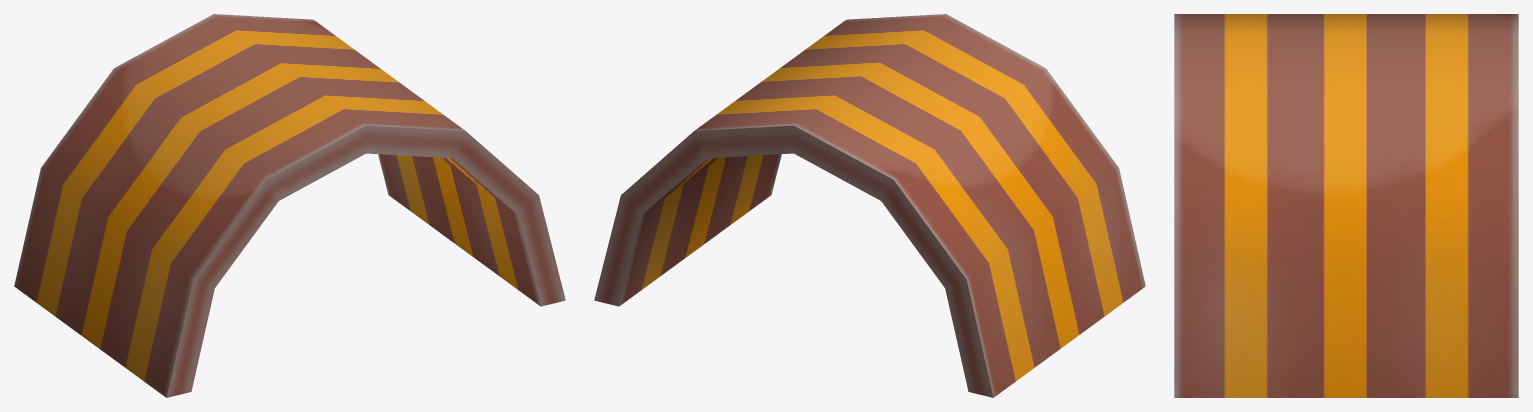
File: slide_down_tunnel.FBX
The picture shows the model from 3 angles, left to right: view 1: azimuth 30°, elevation 25°; view 2: azimuth 150°, elevation 25°; view 3: azimuth 270°, elevation 25°; orthographic projection. The views are drawn at different scales.
Visible parts, largest first — view 1: Tube003; view 2: Tube003; view 3: Tube003.
Boxes of the visible parts, x1,y1,x2,y2 form: Tube003: [14, 14, 565, 397]; Tube003: [594, 14, 1145, 397]; Tube003: [1174, 14, 1518, 397].
Size of the model in its own units: 160 by 85.45 by 106.
